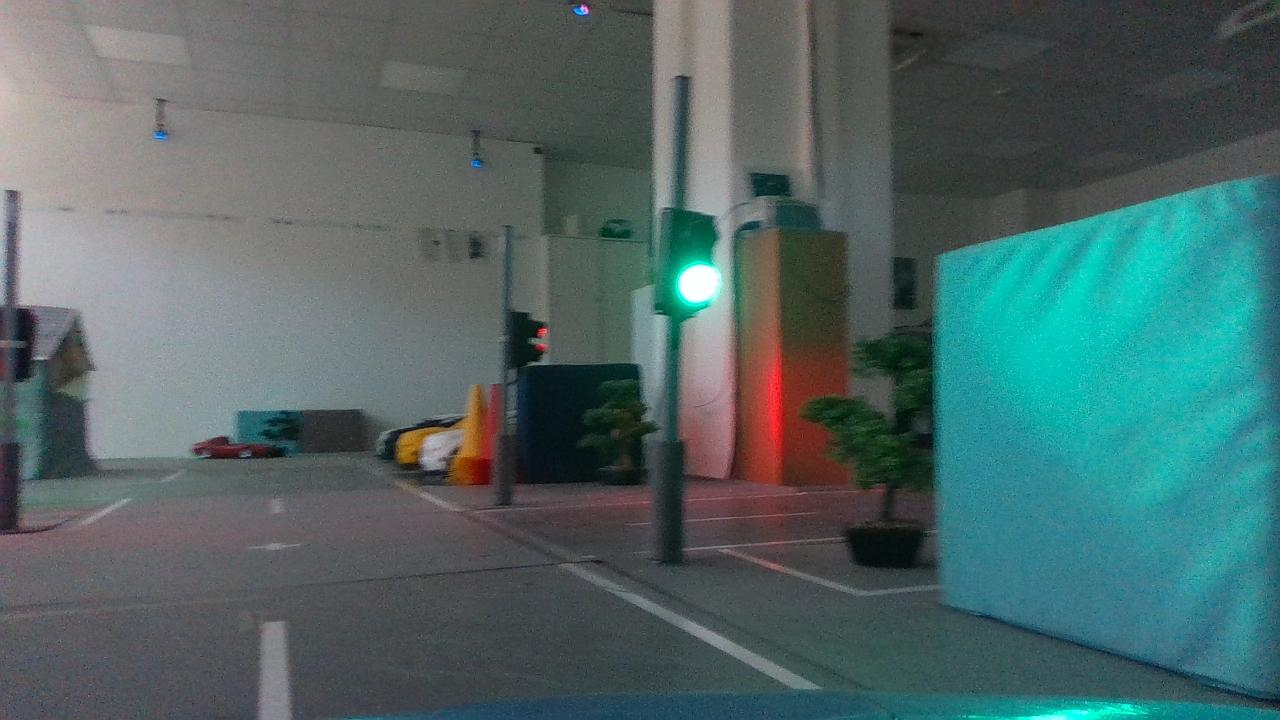traffic_light_green: (637, 200, 730, 331)
